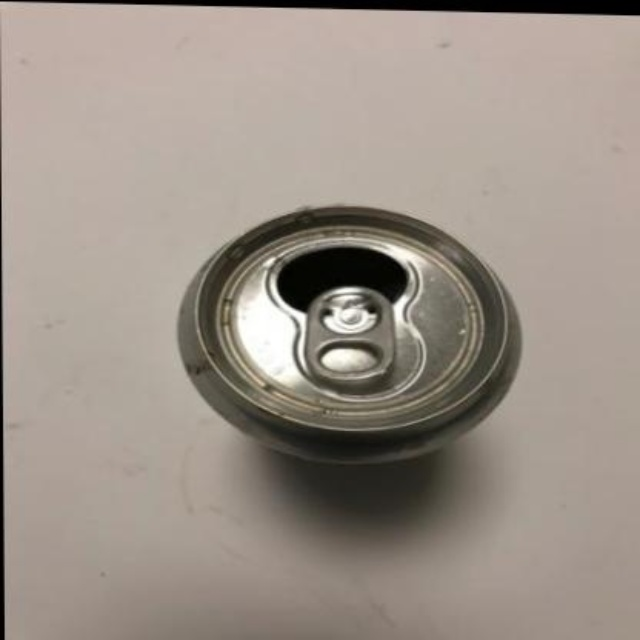trash: (178, 206, 520, 462)
